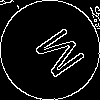M: (25, 25, 87, 86)
